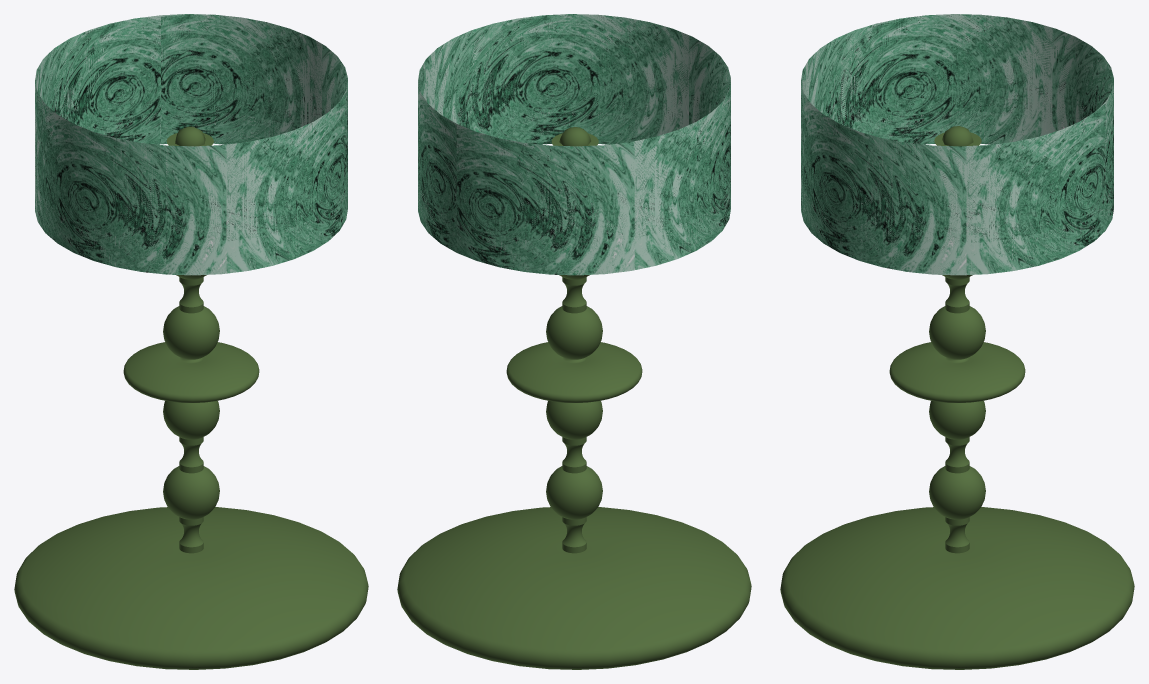
The picture shows the model from 3 angles, left to right: view 1: azimuth 30°, elevation 25°; view 2: azimuth 150°, elevation 25°; view 3: azimuth 270°, elevation 25°; orthographic projection.
Parts seen in each view (by area): view 1: group_0 (×2); view 2: group_0 (×2); view 3: group_0 (×2), su2kt_pointlight.
Part boxes in pixels (x1=…): group_0 (×2): x1=14, y1=14, x2=368, y2=669; group_0 (×2): x1=397, y1=14, x2=751, y2=669; group_0 (×2): x1=780, y1=14, x2=1134, y2=669; su2kt_pointlight: x1=942, y1=126, x2=973, y2=146.
Size of the model in its own units: 29.37 by 29.37 by 47.53.
3 materials, 1 textured.
